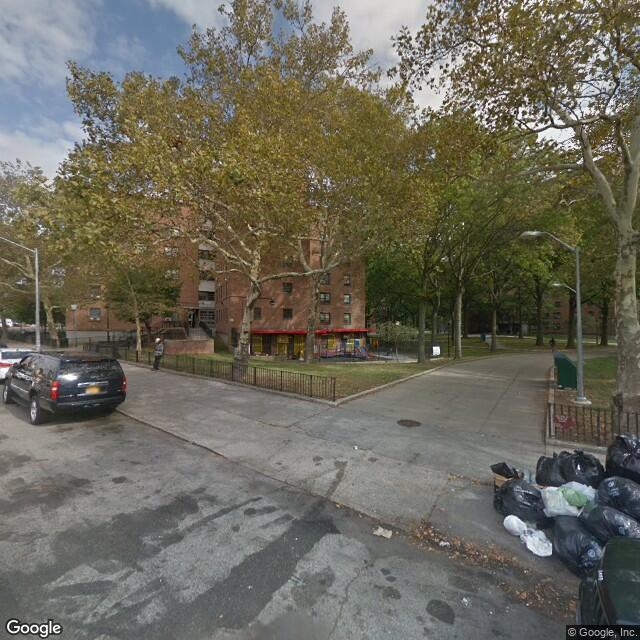litter: (372, 526, 391, 541), (438, 537, 450, 544), (424, 545, 433, 549), (487, 609, 496, 612), (351, 445, 361, 447)
